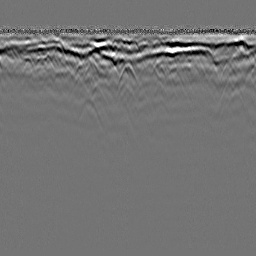cavity: (117, 60, 139, 84)
